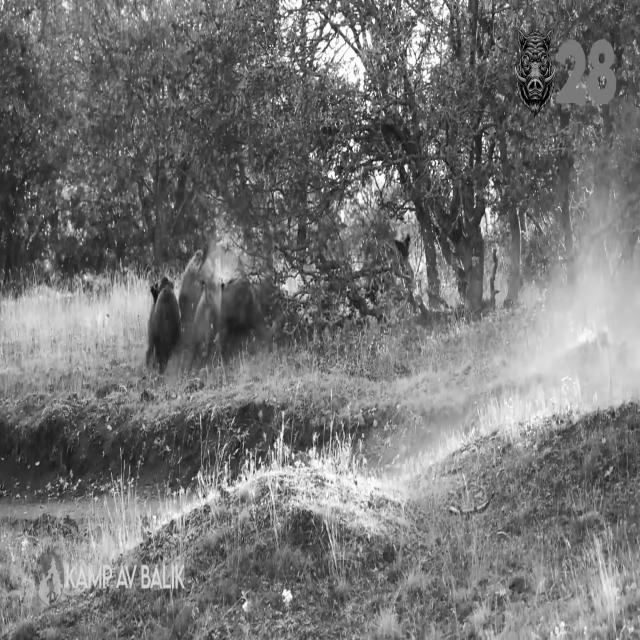boar: (146, 238, 275, 369), (515, 27, 557, 114), (146, 277, 180, 371)
